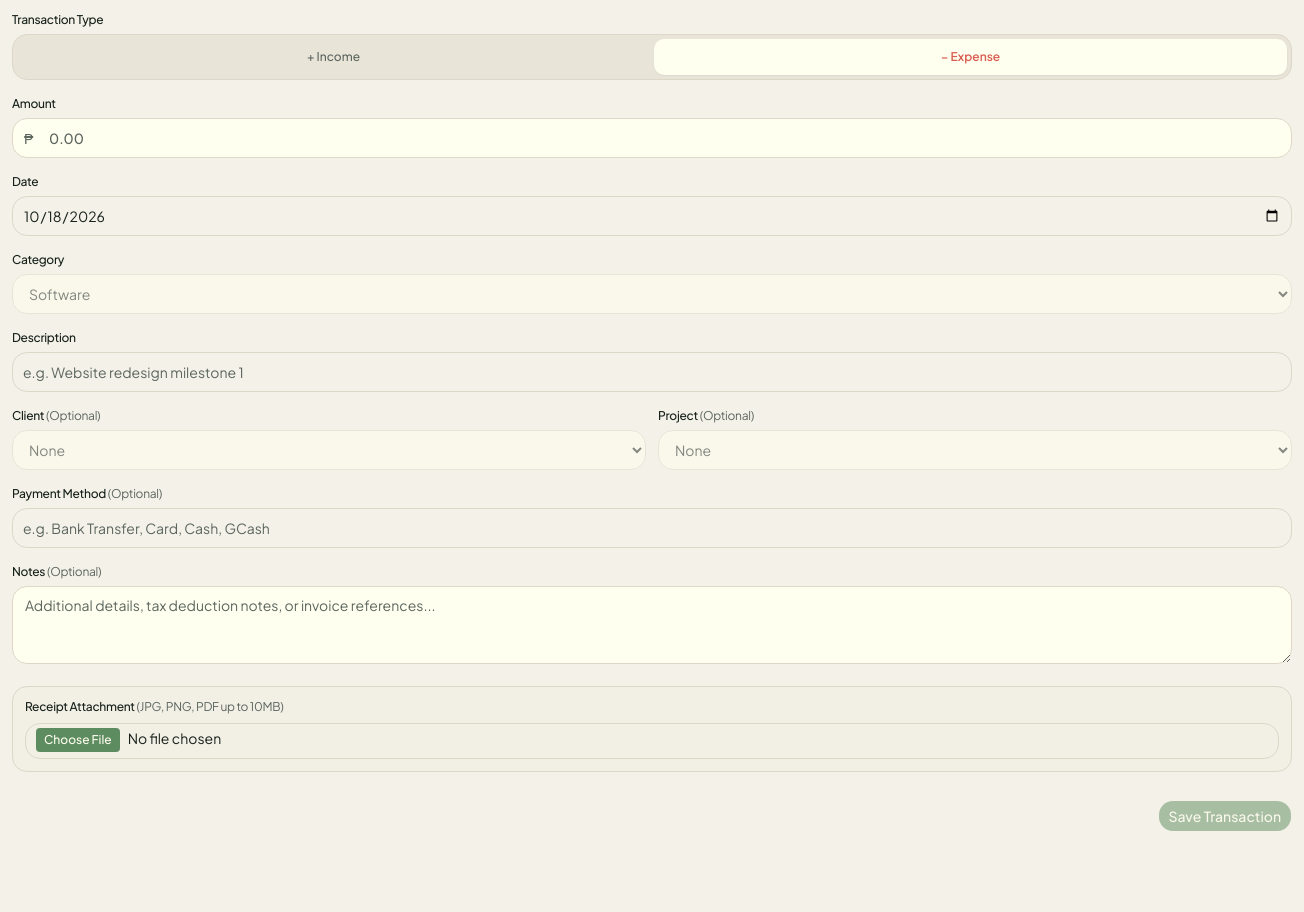
it: Transaction Receipt UI Component Tests › renders receipt attachment input when type is expense, but hides it when toggled to income
The width and height of the screenshot is (1304, 912).
Expected: the file field labelled "Receipt Attachment (JPG, PNG, PDF up to 10MB)" is shown, [25, 723, 1279, 759]
Toggle to Income
Click the button "+ Income": (334, 57) [17, 39, 650, 75]
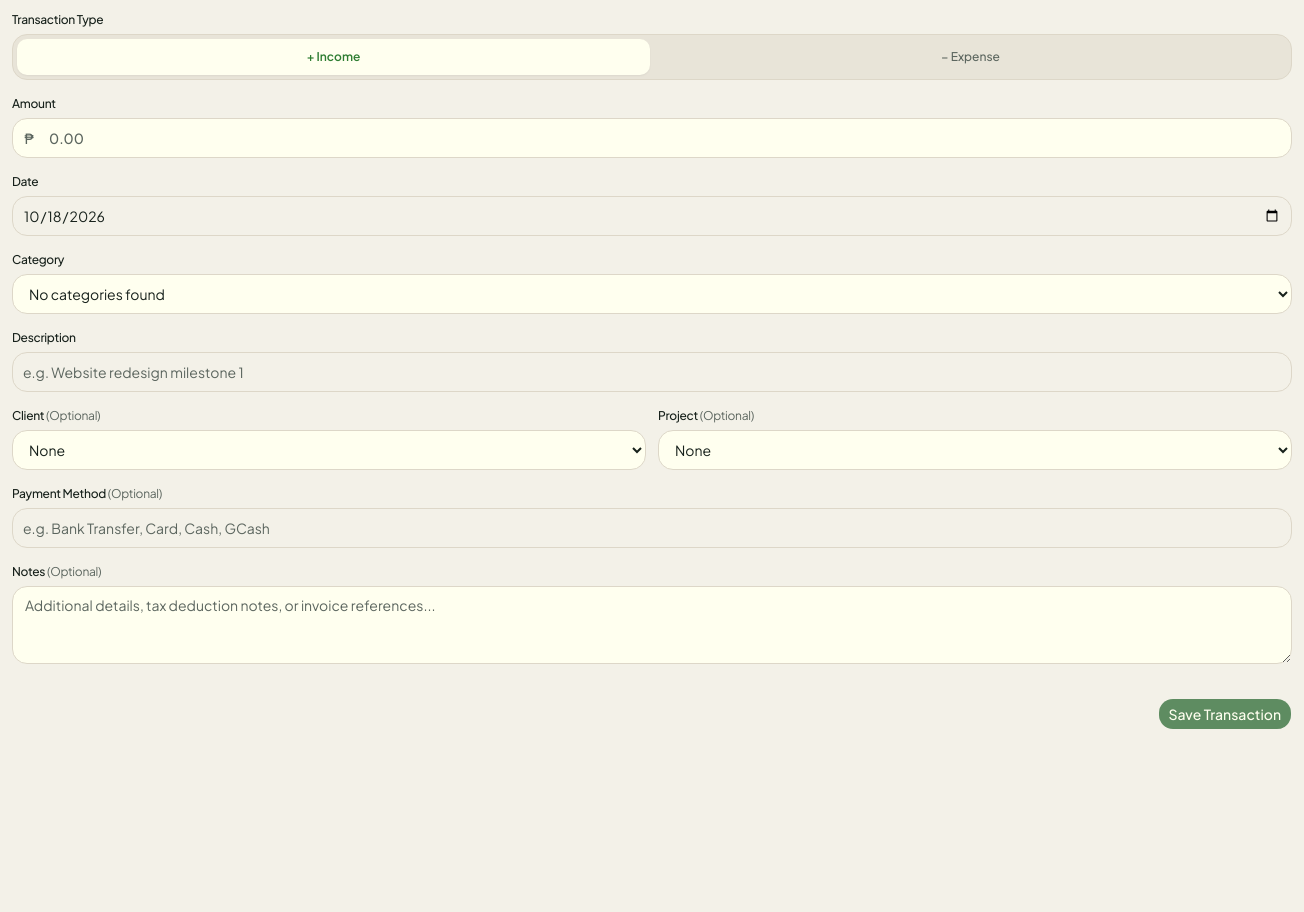
Now the label labelled "Receipt Attachment" is gone
